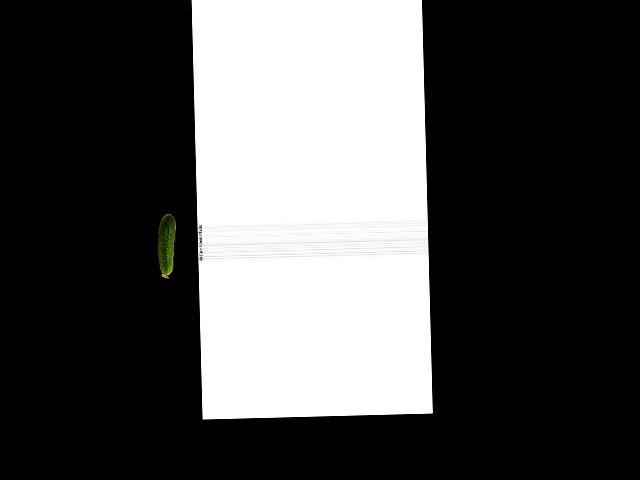cucumber: (156, 213, 177, 278)
